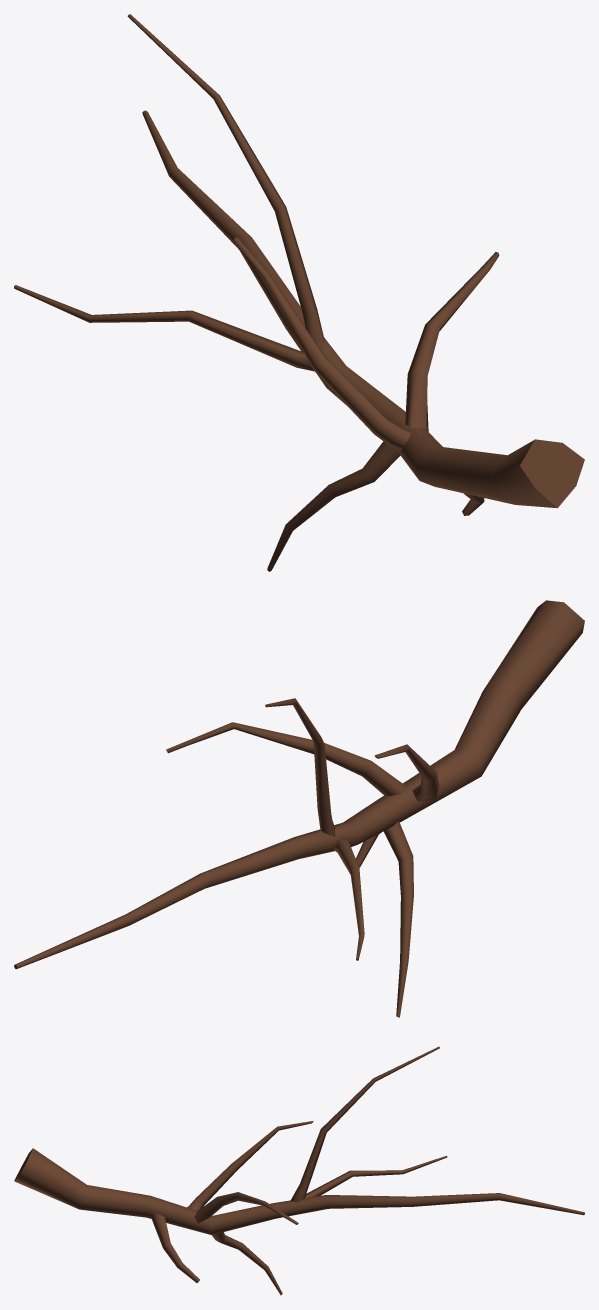
Rendered from itch_assetquest_pond_branch_3b.glb.
The picture shows the model from 3 angles, top to bottom: view 1: azimuth 30°, elevation 25°; view 2: azimuth 150°, elevation 25°; view 3: azimuth 270°, elevation 25°; orthographic projection. The views are drawn at different scales.
Parts seen in each view (by area): view 1: Branch_3b; view 2: Branch_3b; view 3: Branch_3b.
Boxes of the visible parts, box(x1,y1,x2,y2) form: Branch_3b: box(14, 14, 584, 571); Branch_3b: box(14, 600, 584, 1017); Branch_3b: box(14, 1046, 584, 1295).
Bounding box in the file's own units: 0.3745 × 0.463 × 0.96.
